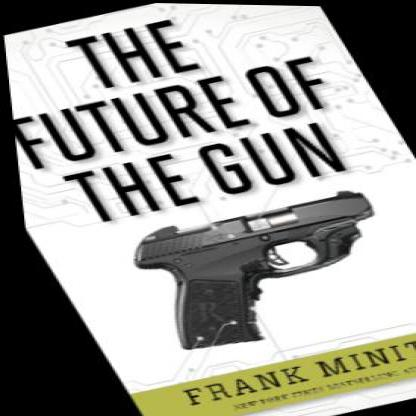pistol: (89, 179, 413, 363)
